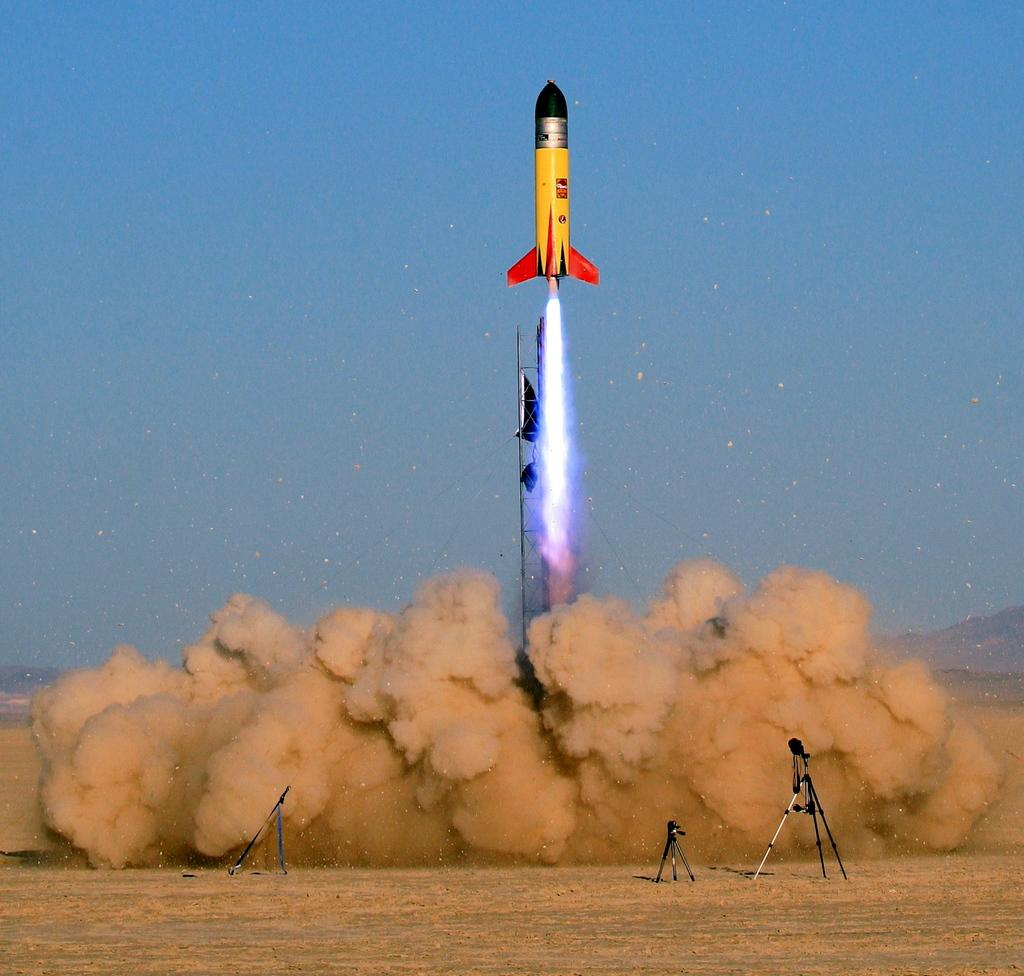Missile: (505, 77, 598, 287)
